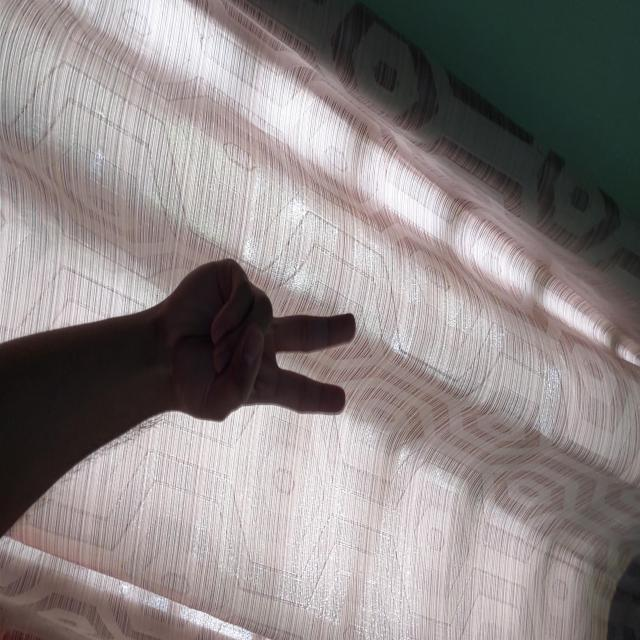V: (259, 283, 424, 478)
